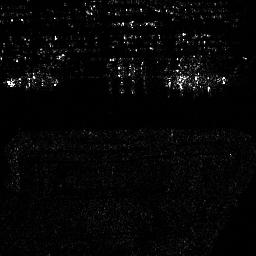ship: (164, 74, 227, 90), (7, 75, 58, 89)
